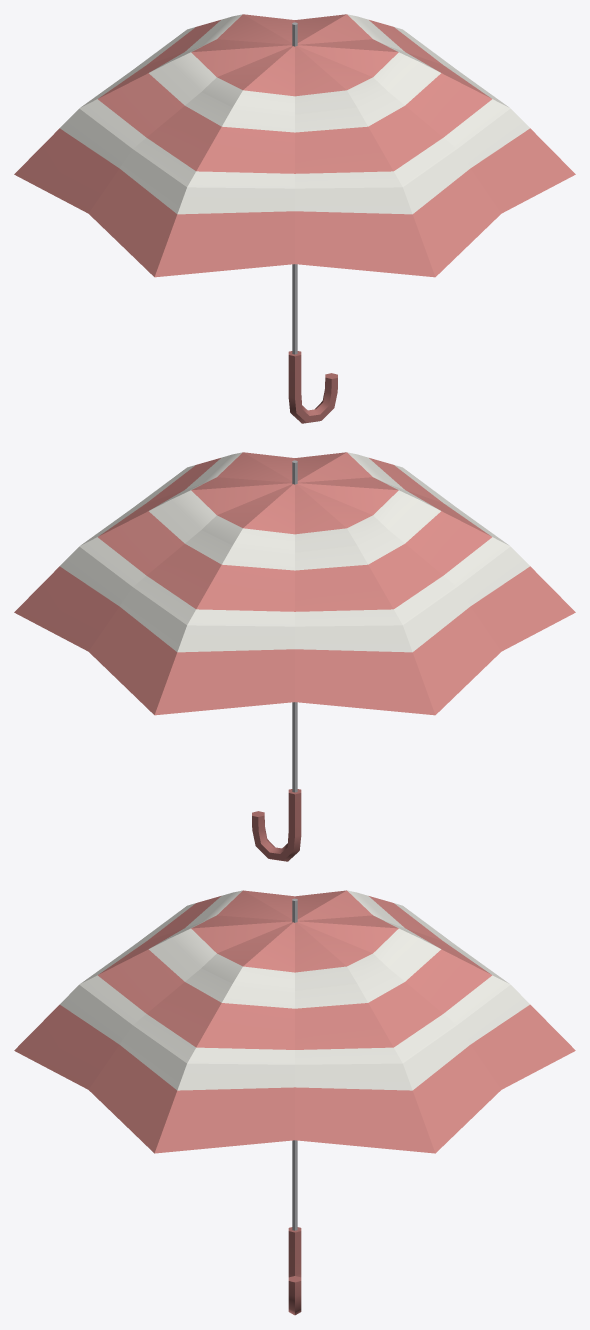
File: O_Interactive_Umbrella.fbx
3 renders of one model, top to bottom at view 1: azimuth 30°, elevation 25°; view 2: azimuth 150°, elevation 25°; view 3: azimuth 270°, elevation 25°, orthographic.
Visible parts, largest first — view 1: polySurface3; view 2: polySurface3; view 3: polySurface3.
Boxes of the visible parts, x1,y1,x2,y2 form: polySurface3: [14, 14, 575, 423]; polySurface3: [14, 452, 575, 861]; polySurface3: [14, 890, 575, 1315].
Bounding box in the file's own units: 2 × 1.83 × 2.31.
